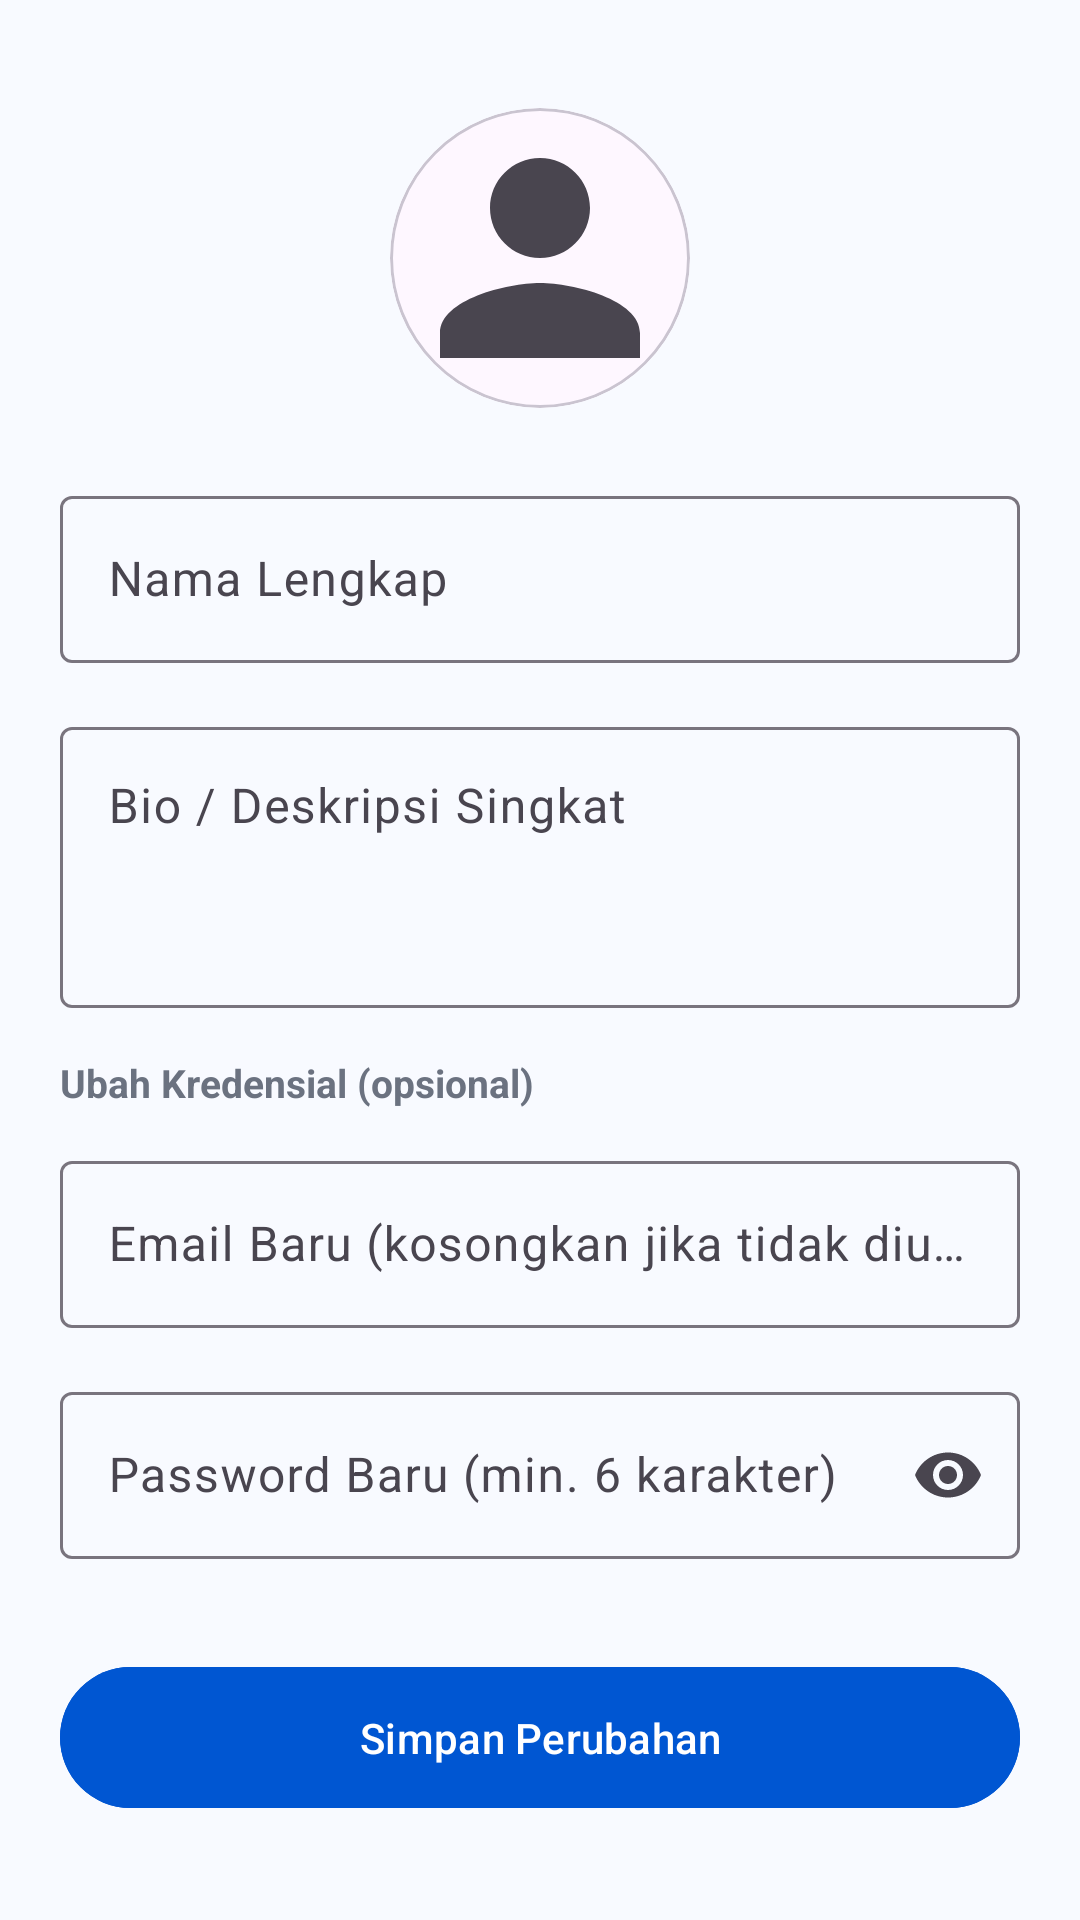

Icon click points for this 1080w x 1920h phone screenshot, format (x,y):
profile: (540,258)
